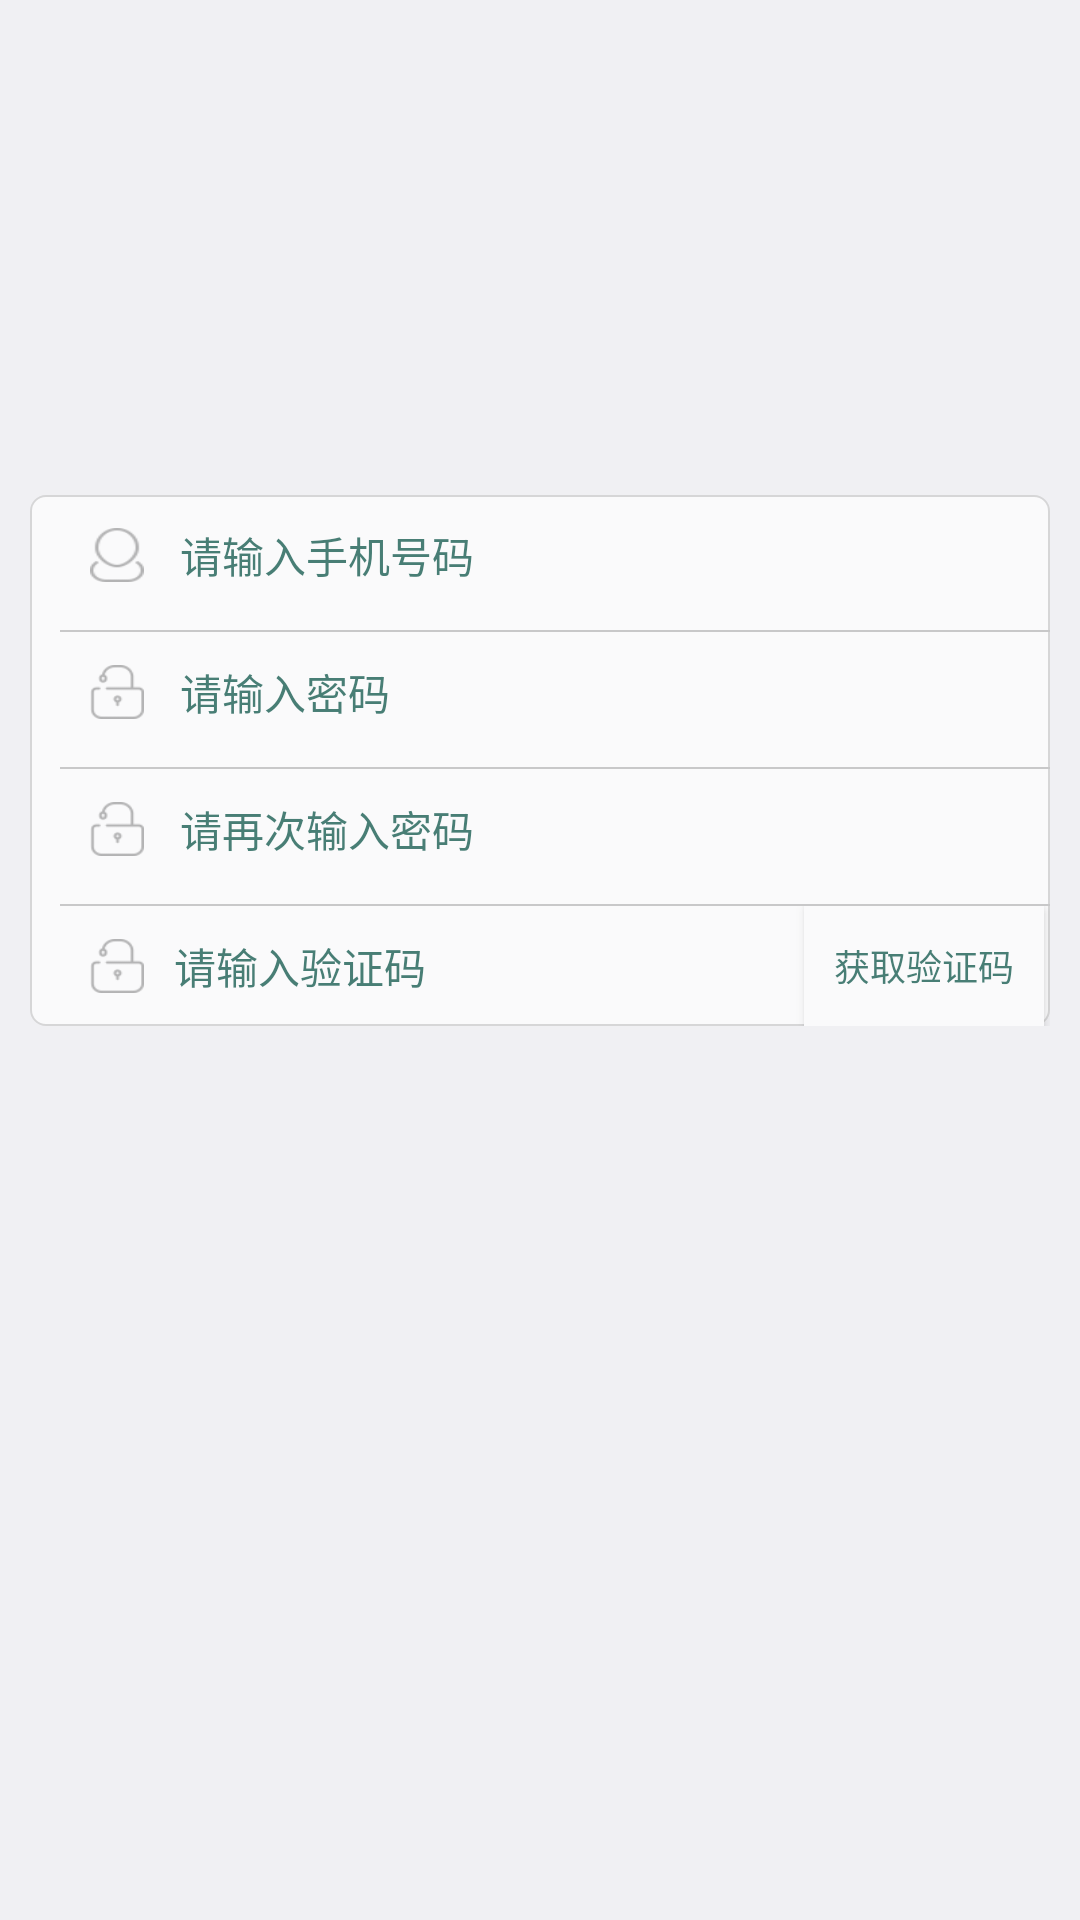

Icon click points for this 1080w x 1920h phone screenshot, format [x,y]:
pass: [117,692], [117,829], [117,966]
